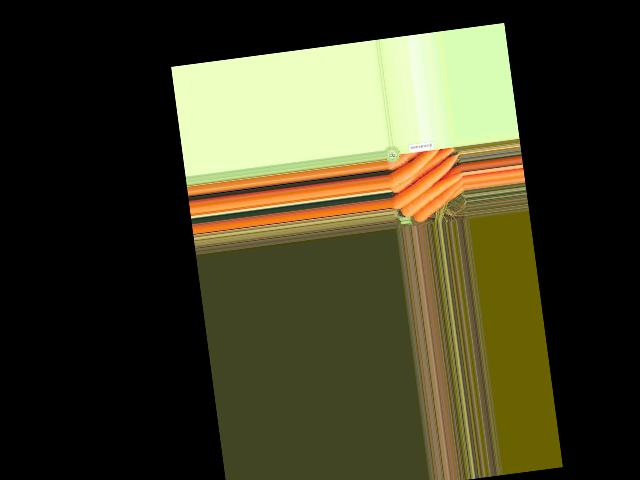carrot: (386, 145, 460, 194)
